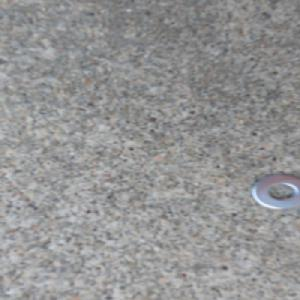Washer: (246, 172, 300, 211)
